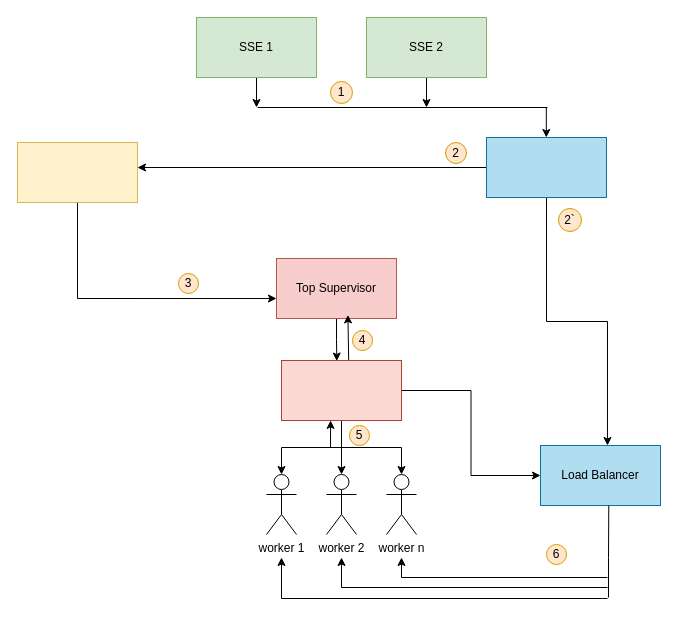
The diagram is 678 pixels wide and 624 high, and some of its shapes have lost their labels. Here are the shapes that lost their labels. From the top down, the centre of each, then its label:
At point 77,172: "Auto-scaler".
At point 546,167: "Stream Reader".
At point 341,390: "Pool Supervisor".
